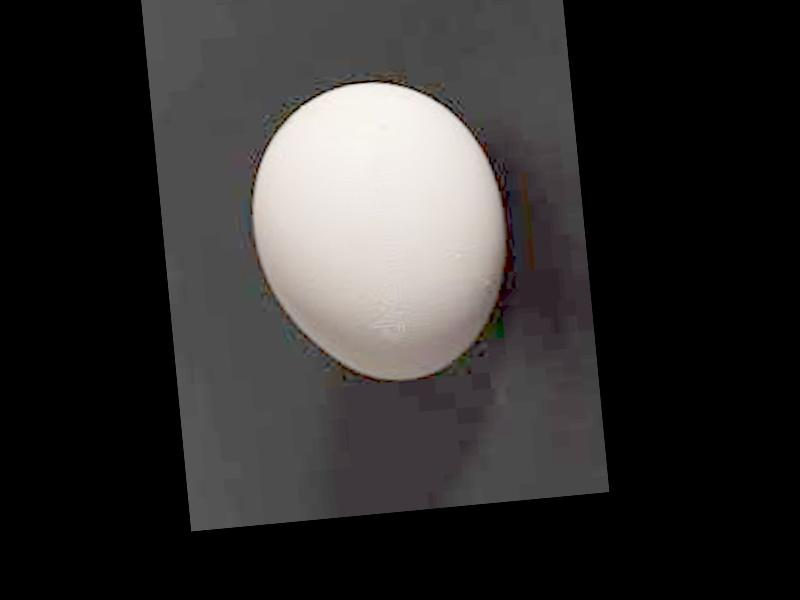Eggs: (242, 69, 514, 390)
